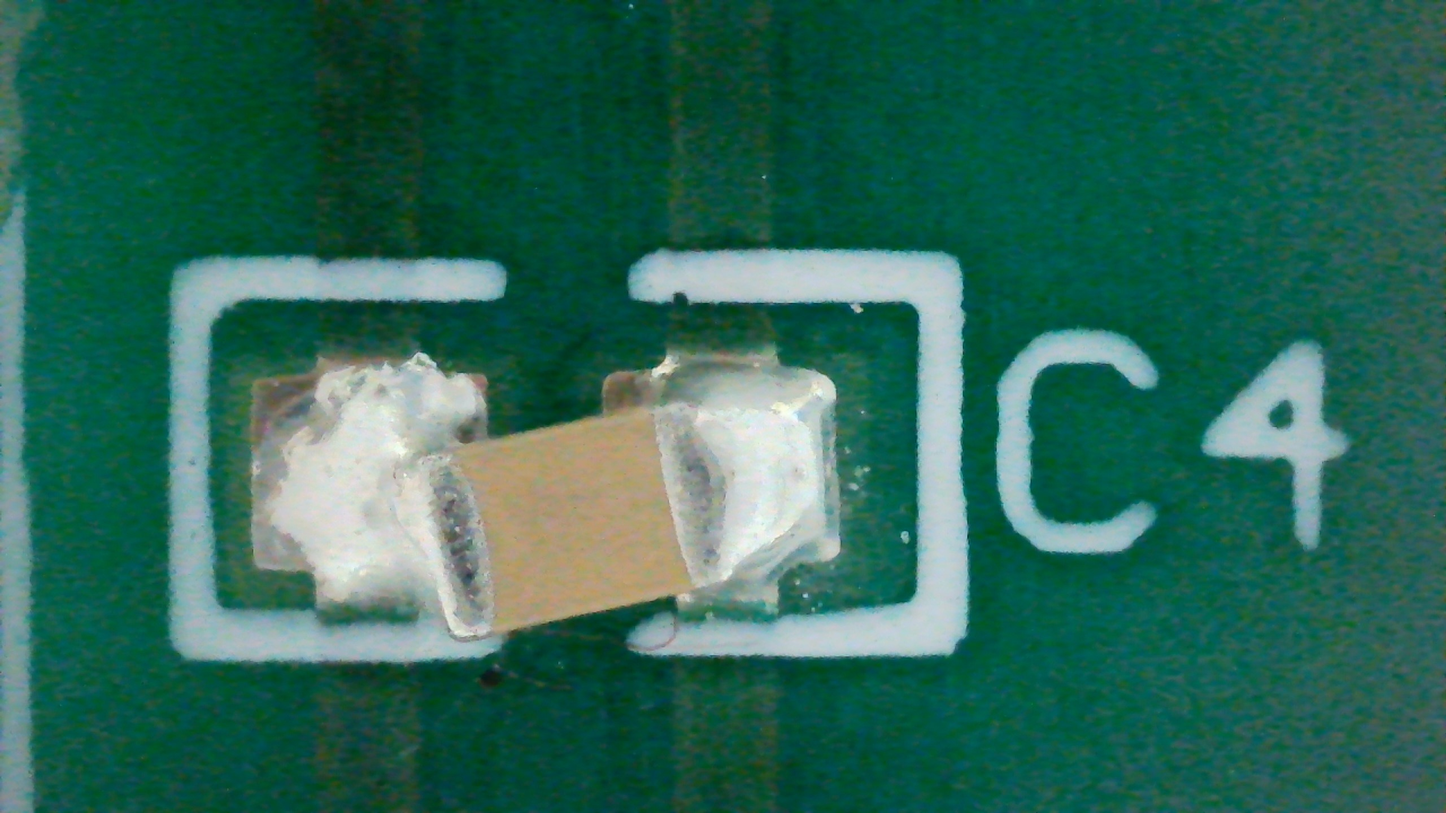NG: (252, 347, 840, 641)
